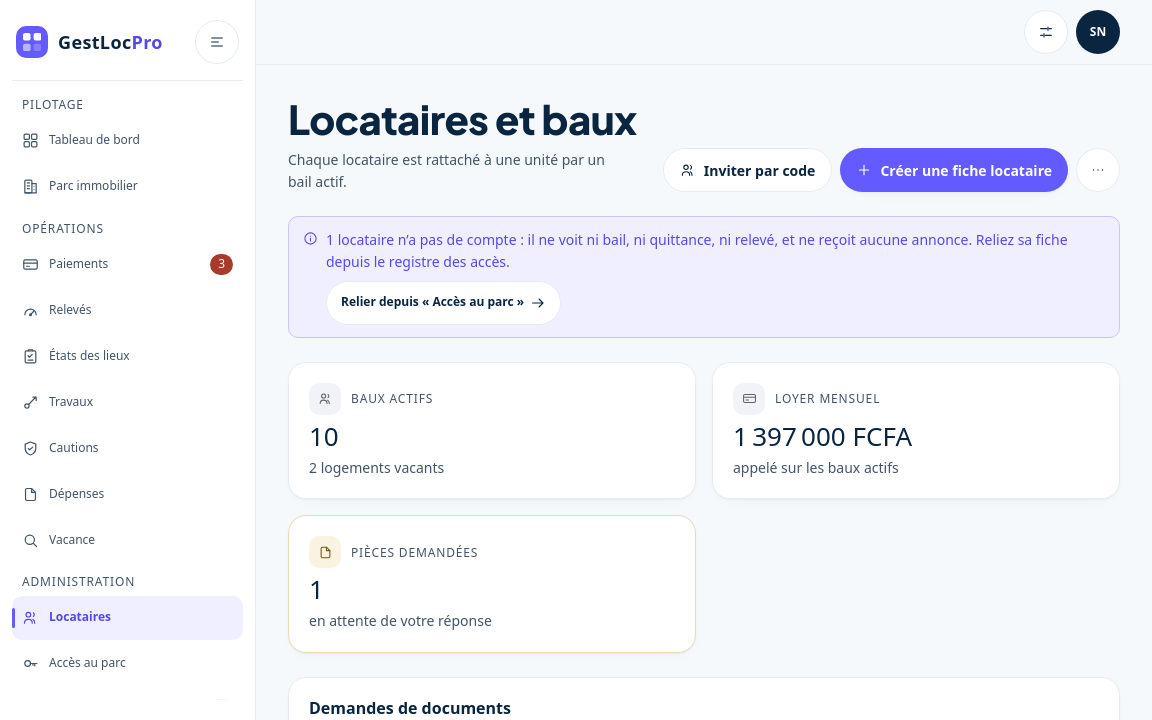
Test: indicatif de la fiche locataire › se cherche à la frappe plutôt que de dérouler deux cents entrées
Click the button "Créer une fiche locataire": (954, 170) [840,148,1068,192]
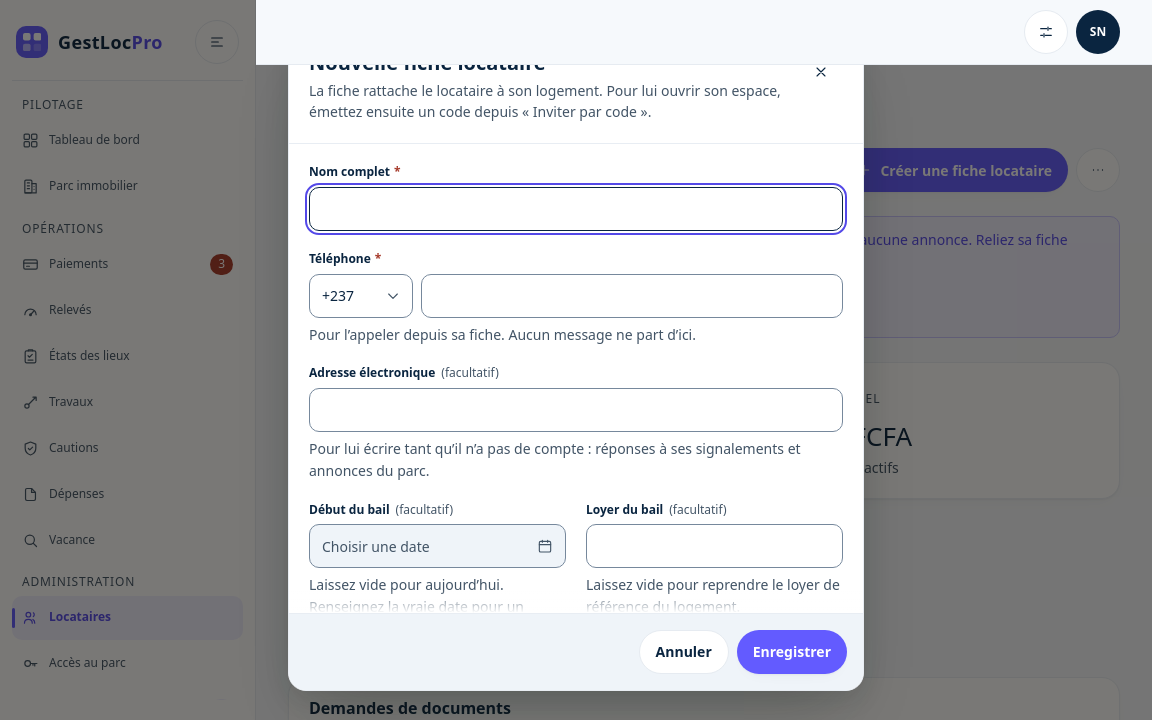
Click the dropdown named "indicatif": (361, 296) [309,274,413,318]
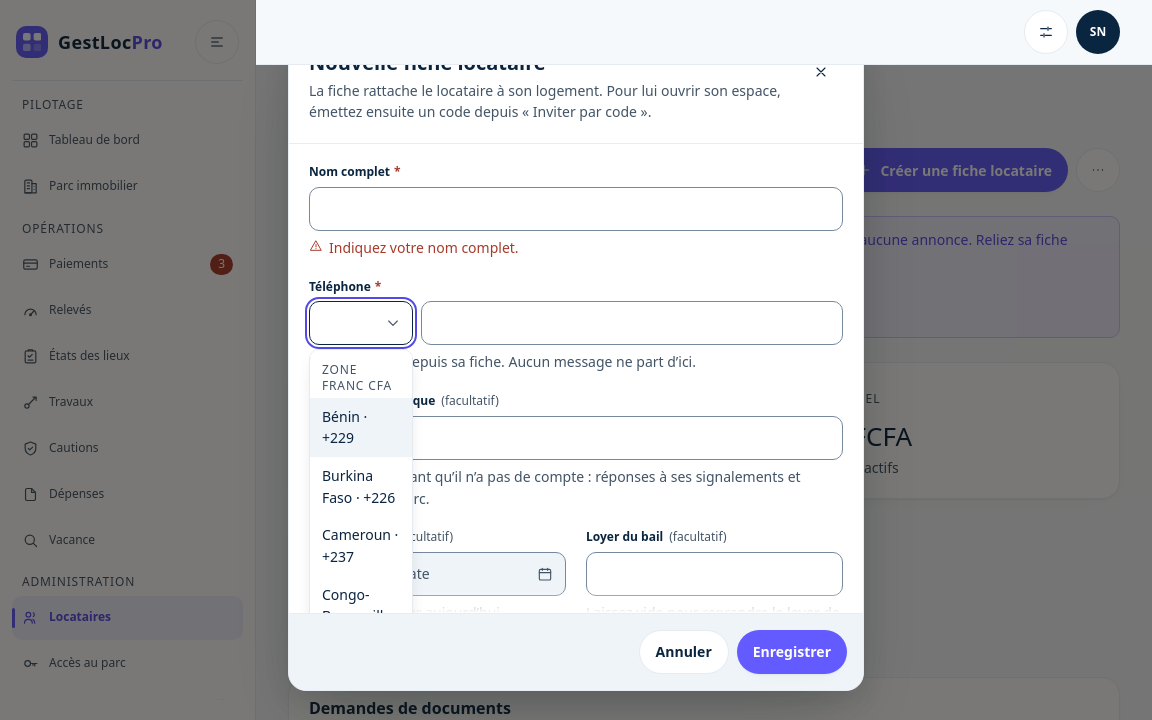
In the dropdown named "indicatif": (361, 324) [309,302,413,346], type "zimb"
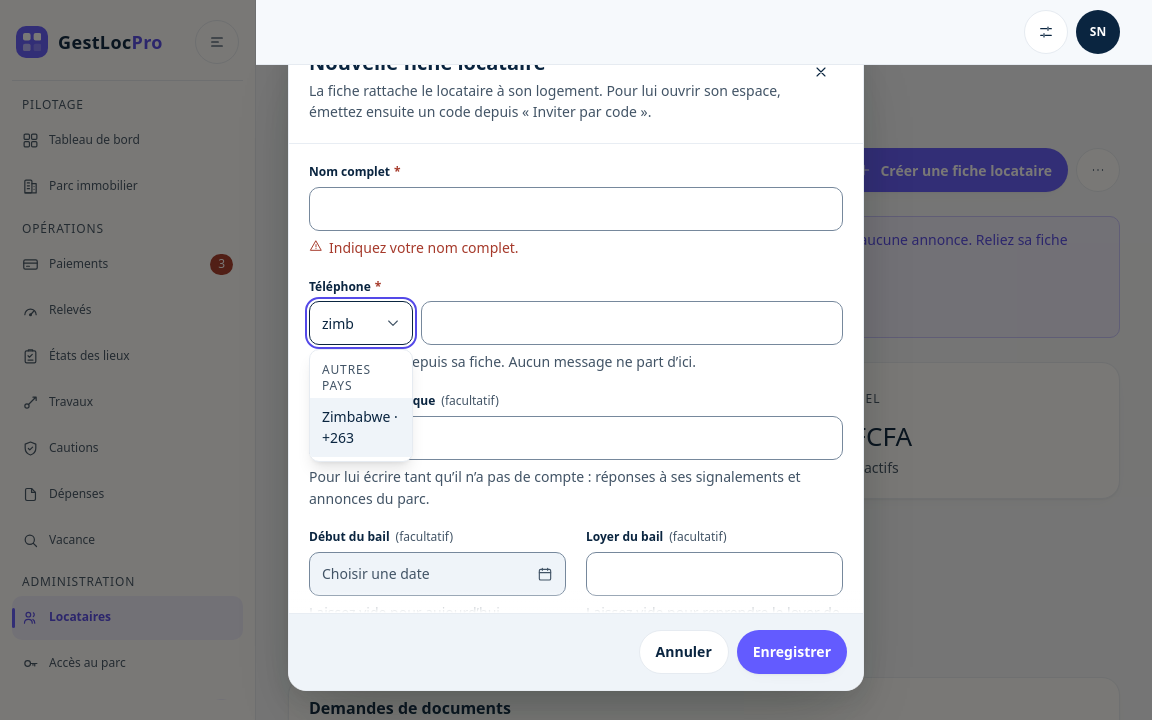
Expected: the number of options is 1
Click the option "Zimbabwe · +263": (361, 427) [310,398,412,457]
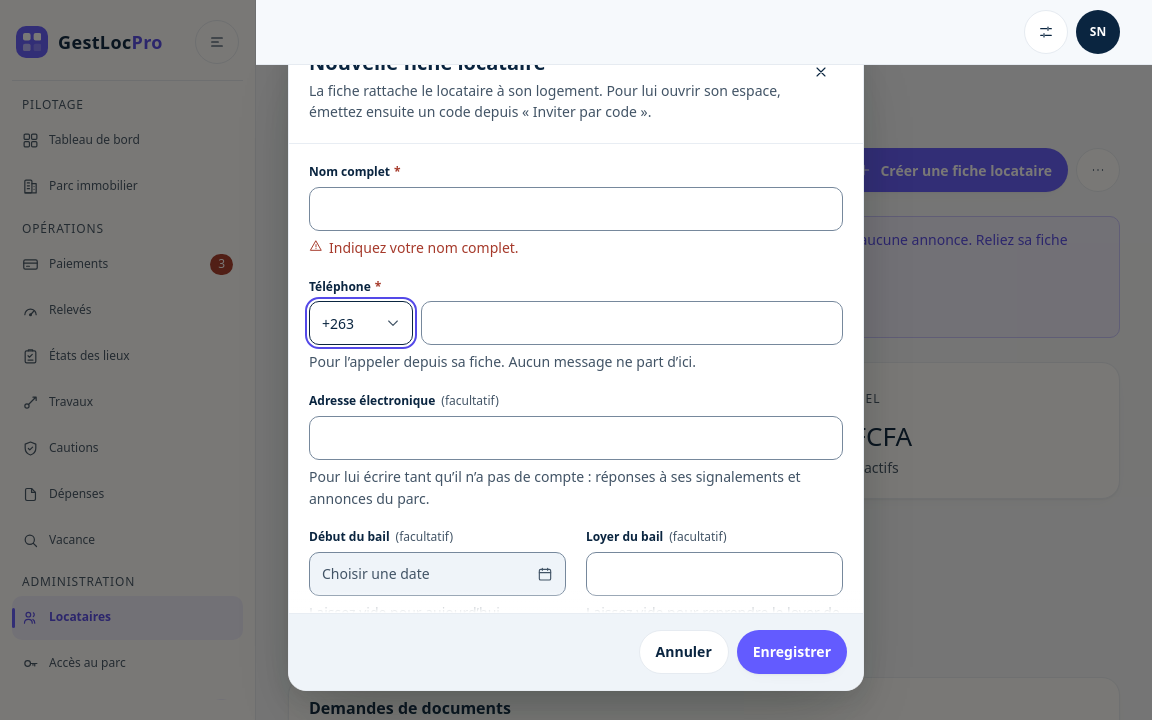
Expected: the dropdown named "indicatif" holds "+263", [309,302,413,346]
